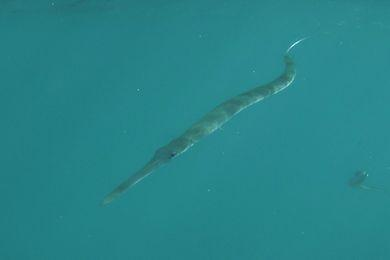Fistularia commersonii: (100, 37, 304, 207)
